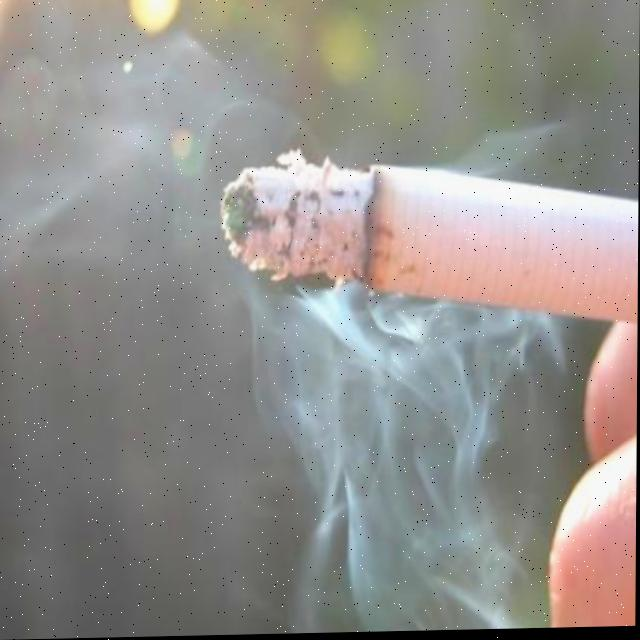cigarette: (221, 141, 638, 334)
